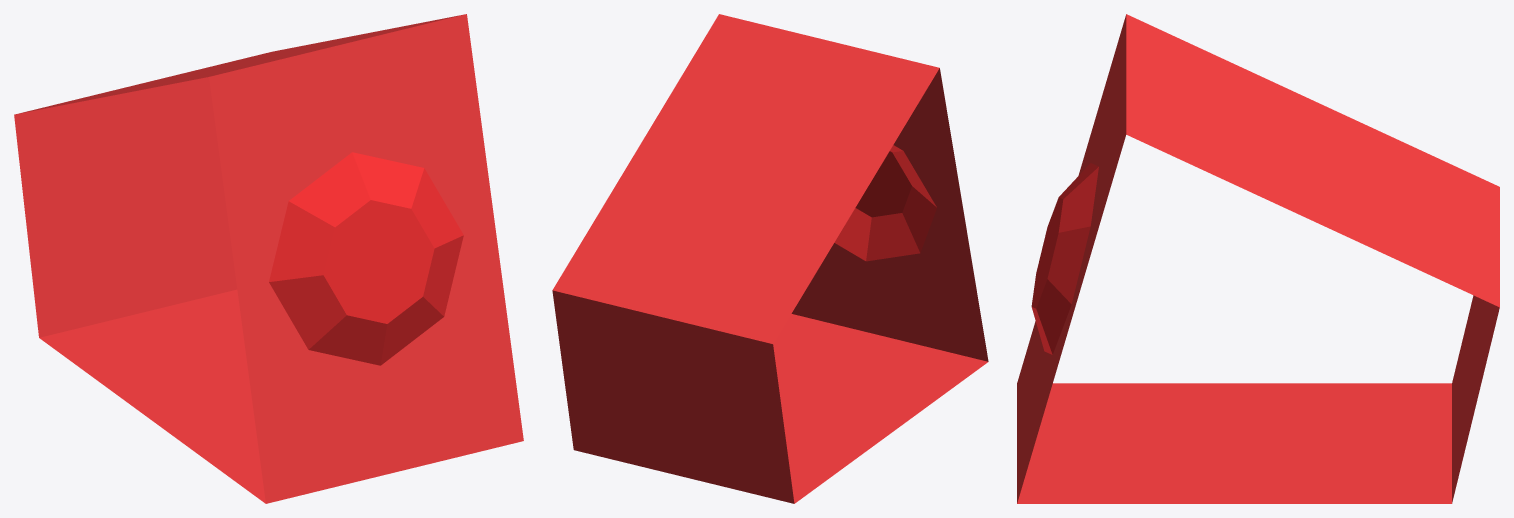
The model's file is Itr_Obj_Speaker2_Middle_05.FBX.
3 renders of one model, left to right at view 1: azimuth 30°, elevation 25°; view 2: azimuth 150°, elevation 25°; view 3: azimuth 270°, elevation 25°, orthographic. The views are drawn at different scales.
Visible parts, largest first — view 1: Itr_Obj_Speaker2_Middle_05; view 2: Itr_Obj_Speaker2_Middle_05; view 3: Itr_Obj_Speaker2_Middle_05.
Boxes of the visible parts, box(x1,y1,x2,y2) form: Itr_Obj_Speaker2_Middle_05: box(14, 14, 523, 503); Itr_Obj_Speaker2_Middle_05: box(552, 14, 988, 503); Itr_Obj_Speaker2_Middle_05: box(1017, 14, 1499, 503).
Bounding box in the file's own units: 6.69 × 9.54 × 11.31.
